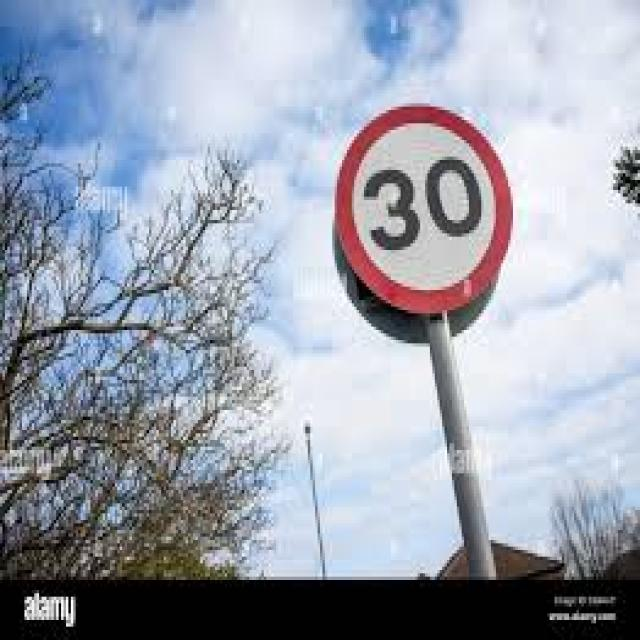speed_30: (336, 102, 516, 315)
